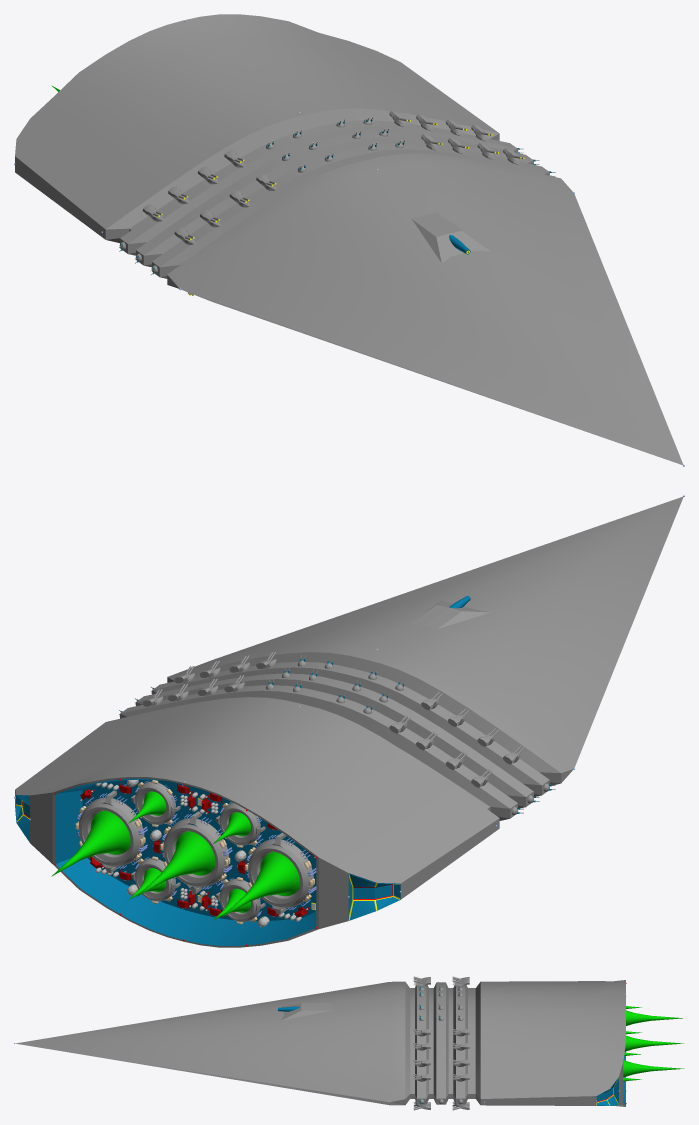
The model's file is Corvette.fbx.
The picture shows the model from 3 angles, top to bottom: view 1: azimuth 30°, elevation 25°; view 2: azimuth 150°, elevation 25°; view 3: azimuth 270°, elevation 25°; orthographic projection. The views are drawn at different scales.
Parts seen in each view (by area): view 1: Cruiser; view 2: Cruiser; view 3: Cruiser.
Boxes of the visible parts, <box> form: Cruiser: <box>14,14,684,466</box>; Cruiser: <box>14,495,684,947</box>; Cruiser: <box>14,976,684,1110</box>.
Bounding box in the file's own units: 6039 × 2285 × 14181.
